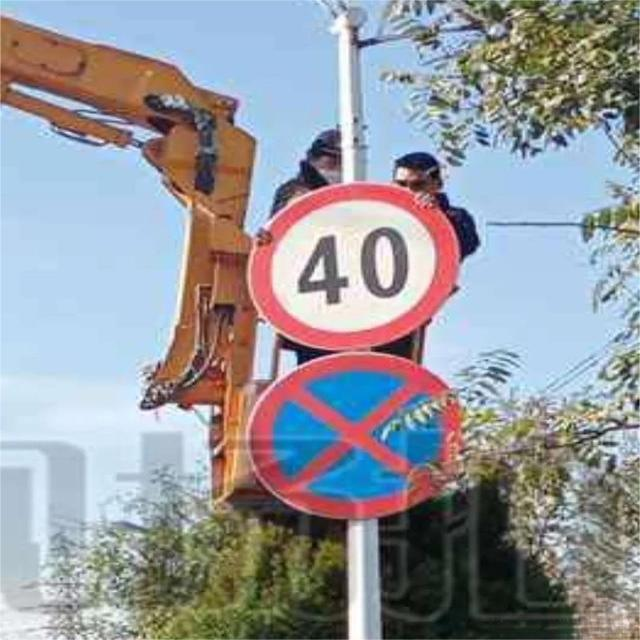speed limit 40: (244, 182, 458, 349)
